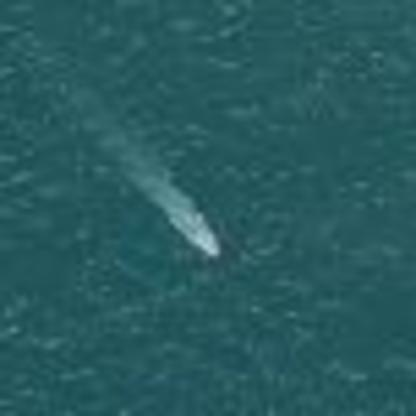ship: (170, 210, 232, 266)
